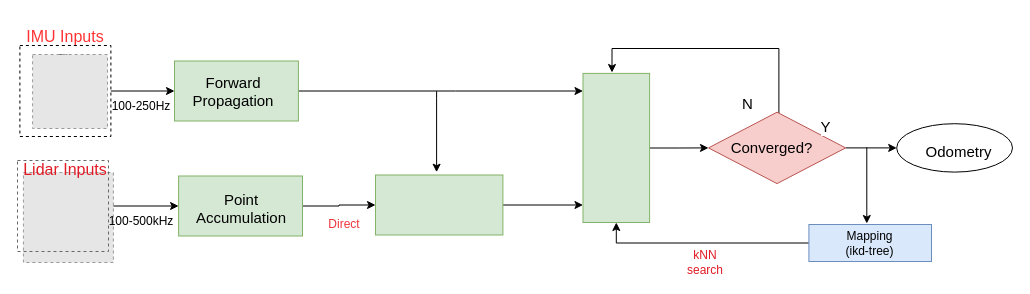
This 1030x294 diagram has some shape labels left out. Grey dashed boxes stand in for pictures. Here are the shapes that lost their labels. From the top down, the centre of each, then its label:
At [616,147]: "IEKF".
At [438,204]: "Backward Propagation".
